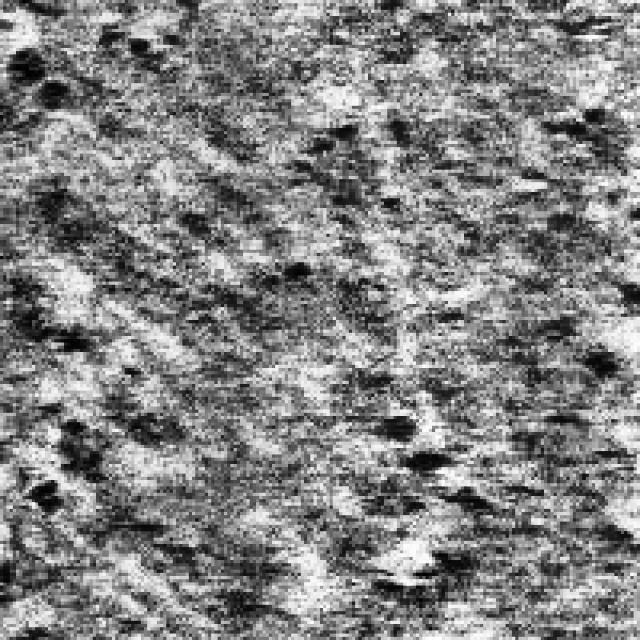Crazing: (0, 298, 208, 566), (346, 371, 512, 624), (0, 0, 179, 115)
